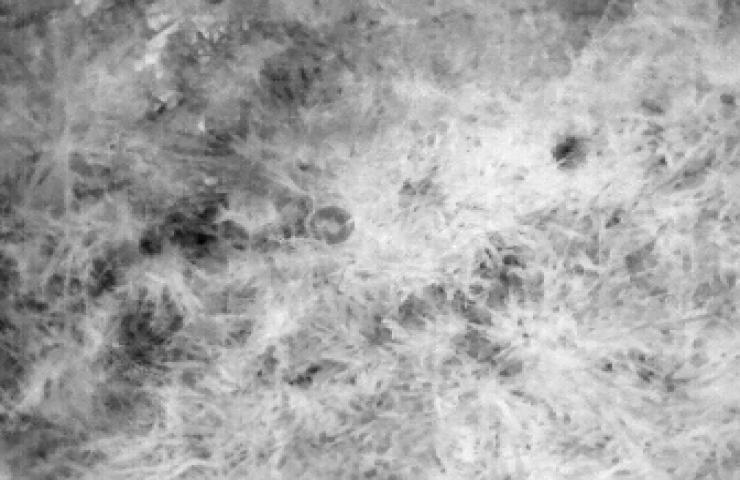landmines: (302, 202, 365, 249)
